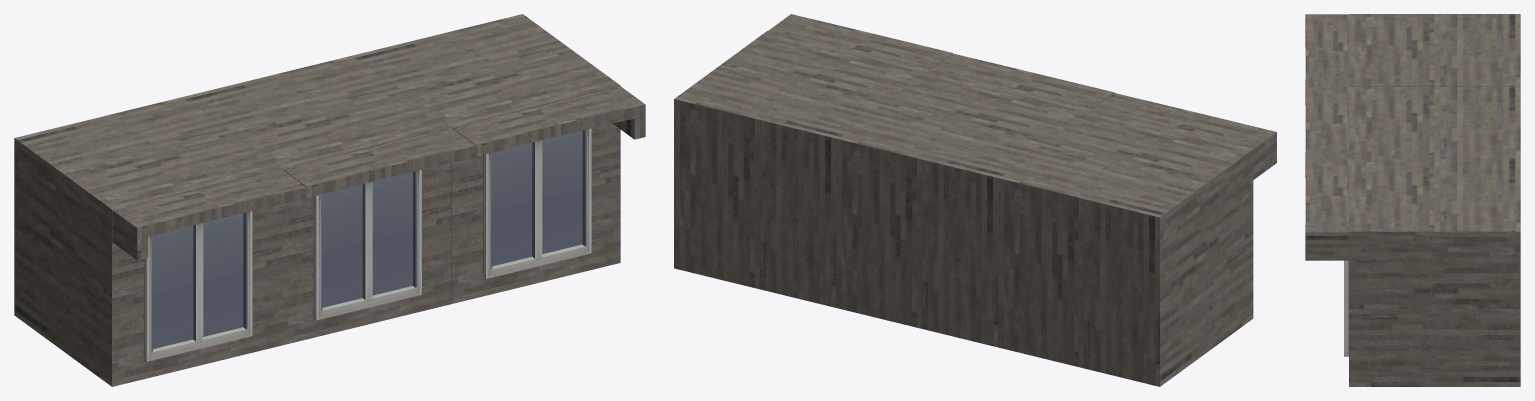
Rendered from 3x1_sundside.fbx.
3 views of the same model, side by side, from view 1: azimuth 30°, elevation 25°; view 2: azimuth 150°, elevation 25°; view 3: azimuth 270°, elevation 25° (orthographic). The views are drawn at different scales.
Parts seen in each view (by area): view 1: Cube.017; view 2: Cube.017; view 3: Cube.017.
Boxes of the visible parts, x1,y1,x2,y2 form: Cube.017: (14,14,645,386); Cube.017: (674,14,1276,386); Cube.017: (1305,14,1520,386).
Bounding box in the file's own units: 251 × 200 × 600.
